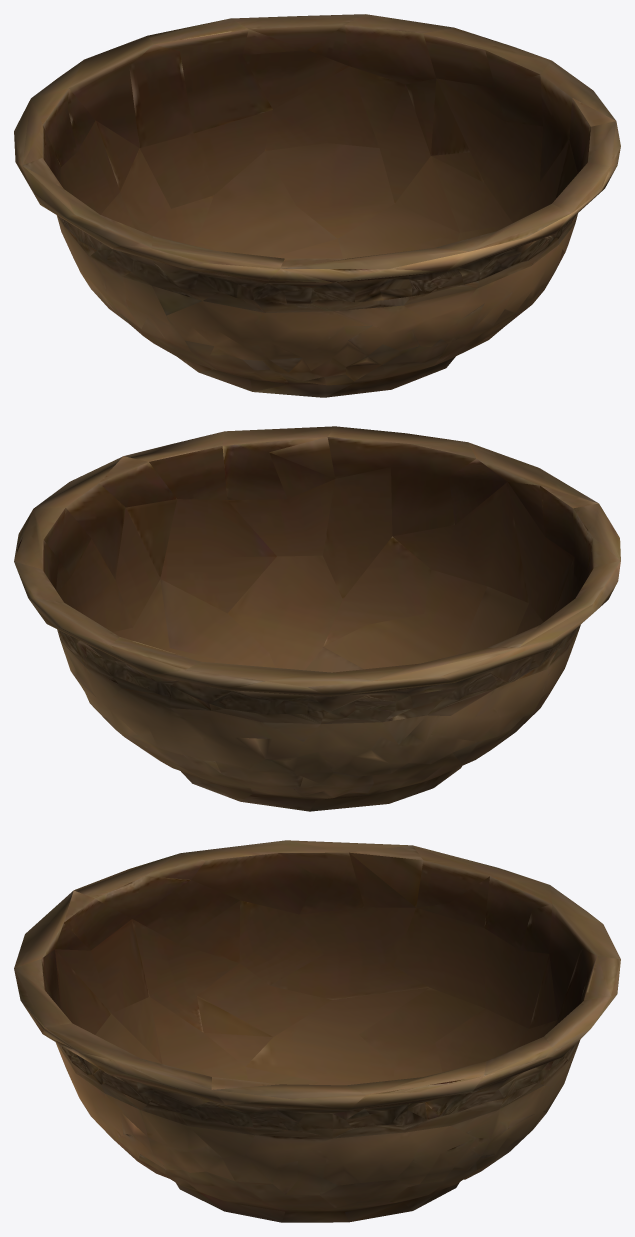
File: la_part_bowl.glb
The picture shows the model from 3 angles, top to bottom: view 1: azimuth 30°, elevation 25°; view 2: azimuth 150°, elevation 25°; view 3: azimuth 270°, elevation 25°; orthographic projection.
Visible parts, largest first — view 1: la_part_bowl; view 2: la_part_bowl; view 3: la_part_bowl.
Part boxes in pixels (<box>): la_part_bowl: <box>14,14,620,397</box>; la_part_bowl: <box>14,426,620,811</box>; la_part_bowl: <box>14,840,620,1222</box>.
Size of the model in its own units: 0.5009 by 0.1764 by 0.4999.
Materials: 1 (1 with a texture image).
